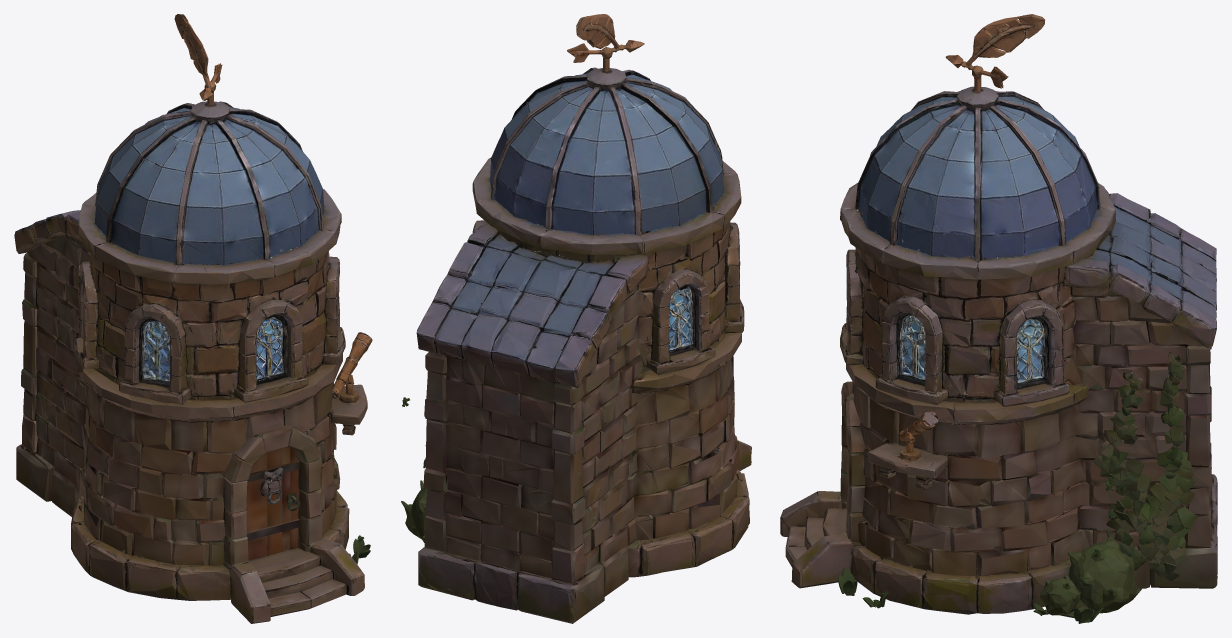
File: academy_t2.glb
The picture shows the model from 3 angles, left to right: view 1: azimuth 30°, elevation 25°; view 2: azimuth 150°, elevation 25°; view 3: azimuth 270°, elevation 25°; orthographic projection. The views are drawn at different scales.
Parts seen in each view (by area): view 1: tripo_part_24, tripo_part_17, tripo_part_14, tripo_part_0, tripo_part_15, tripo_part_16, tripo_part_10, tripo_part_13, tripo_part_4, tripo_part_11, tripo_part_21, tripo_part_5 (+6 smaller); view 2: tripo_part_24, tripo_part_17, tripo_part_29, tripo_part_16, tripo_part_33, tripo_part_21, tripo_part_14, tripo_part_15, tripo_part_13, tripo_part_10, tripo_part_20, tripo_part_25 (+2 smaller); view 3: tripo_part_24, tripo_part_17, tripo_part_14, tripo_part_29, tripo_part_15, tripo_part_16, tripo_part_22, tripo_part_12, tripo_part_0, tripo_part_25, tripo_part_13, tripo_part_11 (+5 smaller).
Part boxes in pixels (x1,y1,x2,y2): tripo_part_24: [16, 234, 340, 569]; tripo_part_17: [94, 101, 324, 265]; tripo_part_14: [89, 213, 329, 379]; tripo_part_0: [229, 538, 364, 623]; tripo_part_15: [71, 490, 349, 603]; tripo_part_16: [78, 189, 341, 284]; tripo_part_10: [119, 303, 204, 404]; tripo_part_13: [78, 303, 342, 422]; tripo_part_4: [223, 301, 308, 402]; tripo_part_11: [329, 332, 372, 435]; tripo_part_21: [74, 261, 114, 376]; tripo_part_5: [188, 344, 247, 395]; tripo_part_24: [418, 285, 740, 623]; tripo_part_17: [484, 67, 724, 235]; tripo_part_29: [416, 221, 648, 387]; tripo_part_16: [472, 158, 741, 254]; tripo_part_33: [419, 552, 577, 622]; tripo_part_21: [645, 268, 721, 375]; tripo_part_14: [489, 187, 731, 334]; tripo_part_15: [635, 469, 749, 577]; tripo_part_13: [632, 325, 741, 393]; tripo_part_10: [724, 222, 744, 333]; tripo_part_20: [576, 14, 617, 48]; tripo_part_25: [401, 480, 427, 542]; tripo_part_24: [837, 216, 1217, 588]; tripo_part_17: [855, 91, 1100, 260]; tripo_part_14: [846, 209, 1095, 394]; tripo_part_29: [1064, 190, 1216, 348]; tripo_part_15: [846, 464, 1071, 614]; tripo_part_16: [840, 182, 1115, 279]; tripo_part_22: [968, 298, 1069, 406]; tripo_part_12: [875, 295, 961, 404]; tripo_part_0: [780, 491, 853, 588]; tripo_part_25: [1039, 528, 1142, 623]; tripo_part_13: [846, 299, 1088, 425]; tripo_part_11: [867, 411, 947, 489].
Bounding box in the file's own units: 0.527 × 0.979 × 0.719.
Materials: 34 (34 with a texture image).
